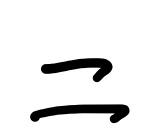eqv: (31, 58, 130, 123)
